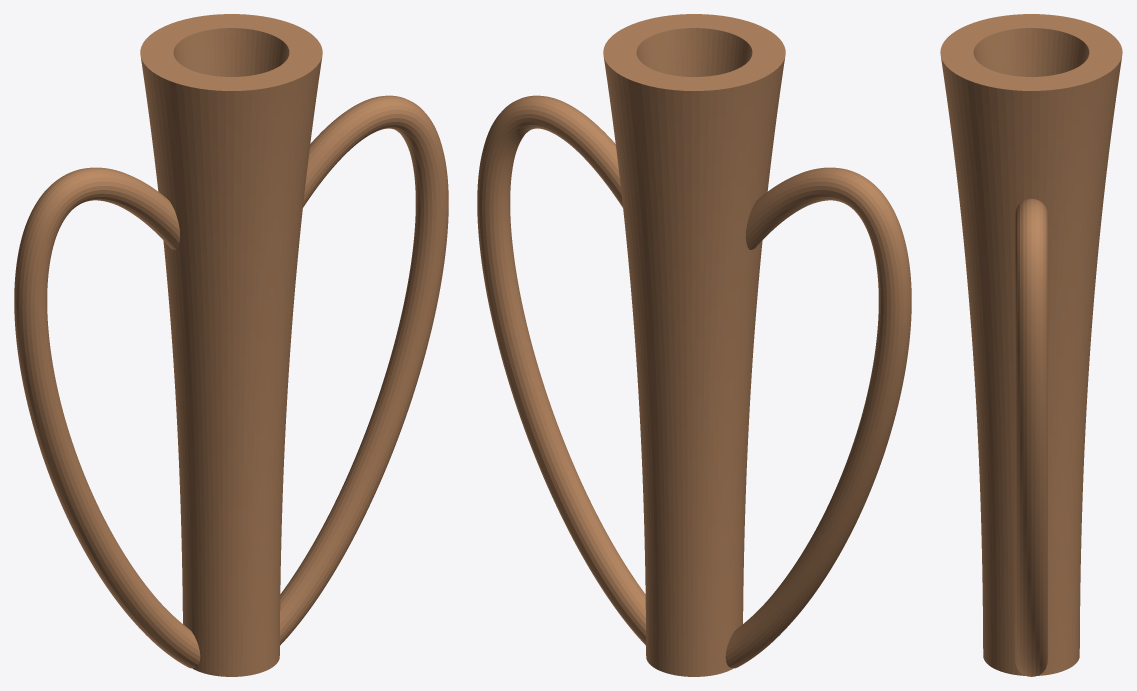
Rendered from cup_of_helen.glb.
3 views of the same model, side by side, from view 1: azimuth 30°, elevation 25°; view 2: azimuth 150°, elevation 25°; view 3: azimuth 270°, elevation 25° (orthographic).
Visible parts, largest first — view 1: world; view 2: world; view 3: world.
Part boxes in pixels (x1,y1,x2,y2): world: (14, 14, 448, 676); world: (477, 14, 911, 676); world: (940, 14, 1122, 676).
Bounding box in the file's own units: 0.1293 × 0.1735 × 0.0475.
